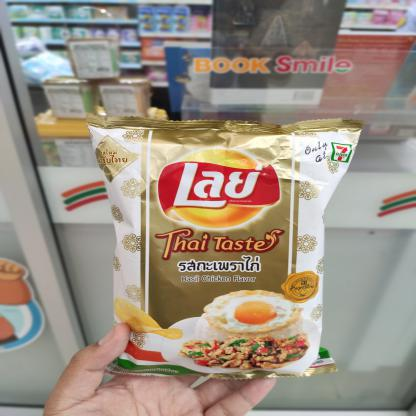potatochip: (76, 113, 371, 380)
